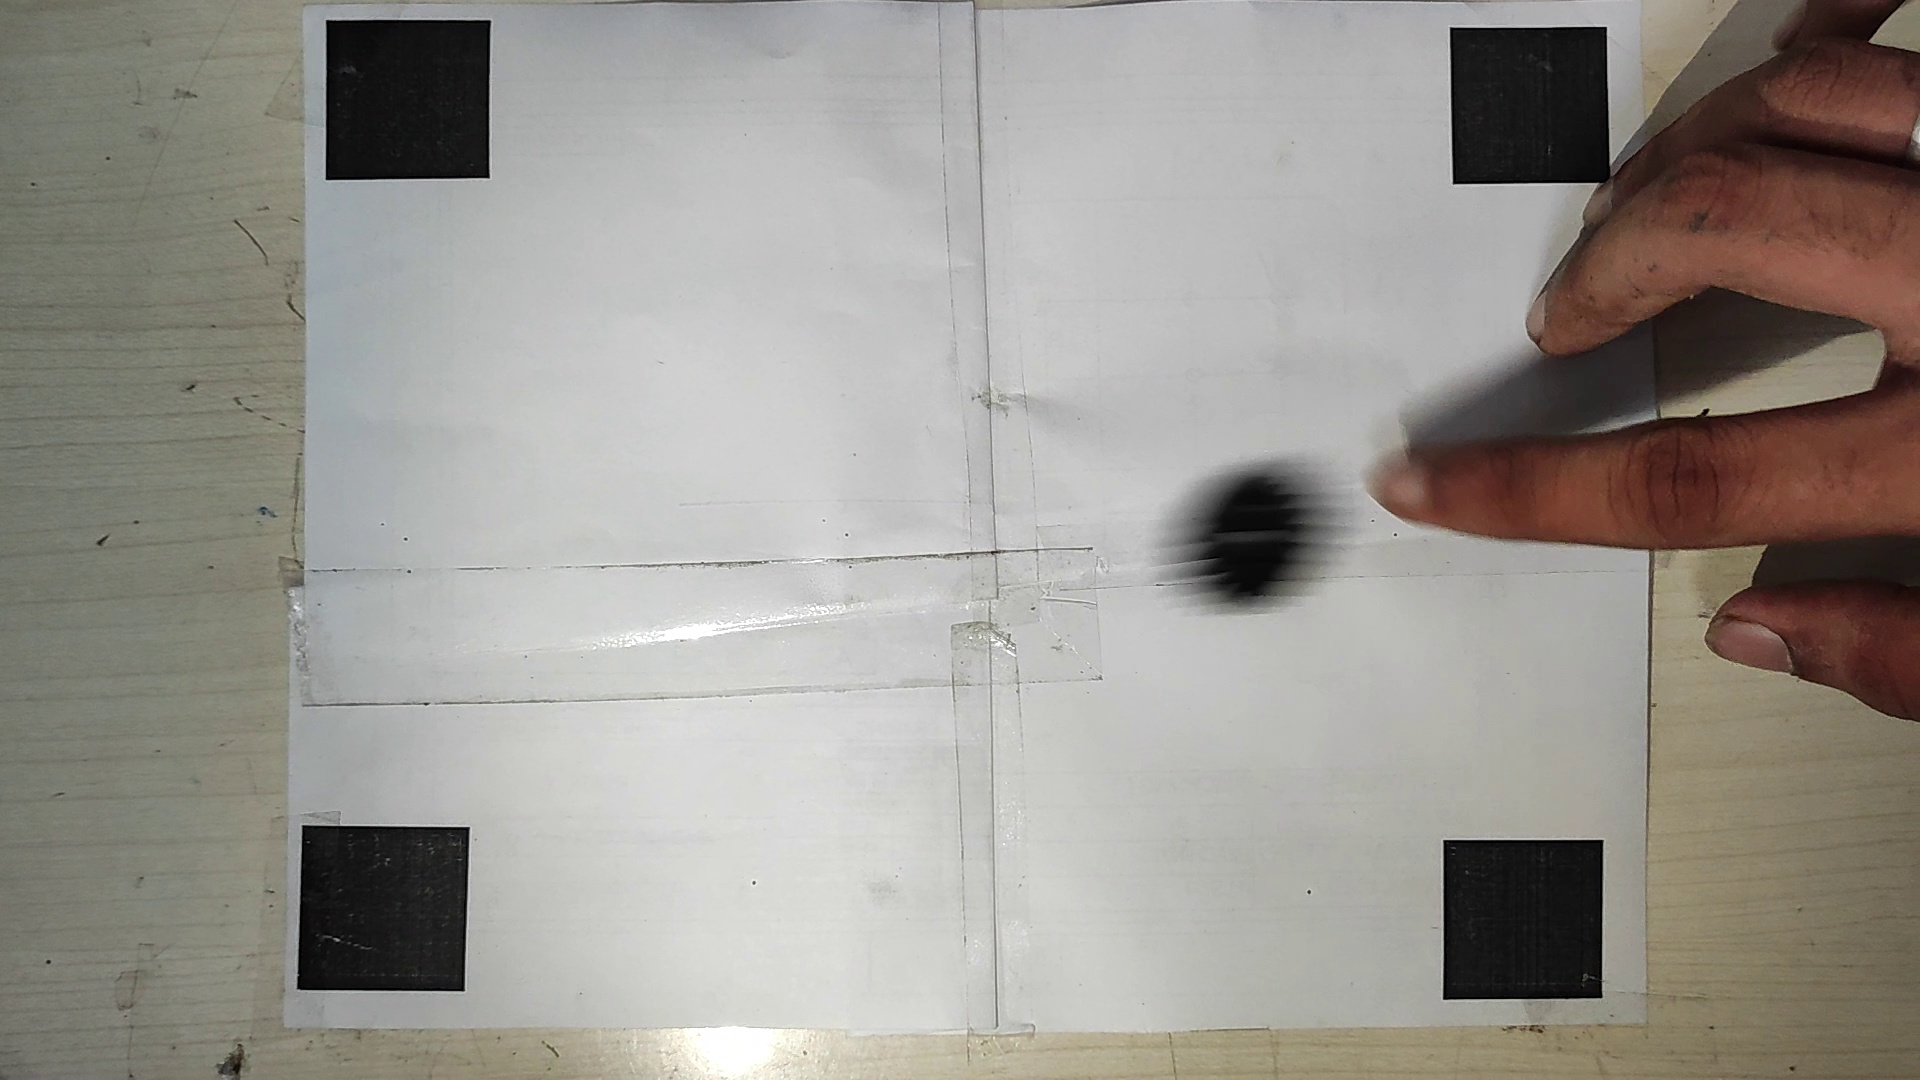Gear: (1204, 477, 1305, 611)
